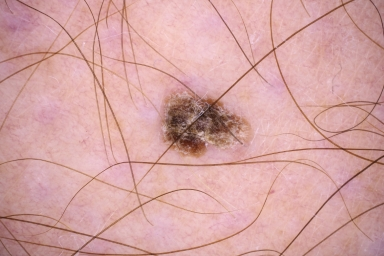melanoma: (163, 94, 250, 158)
